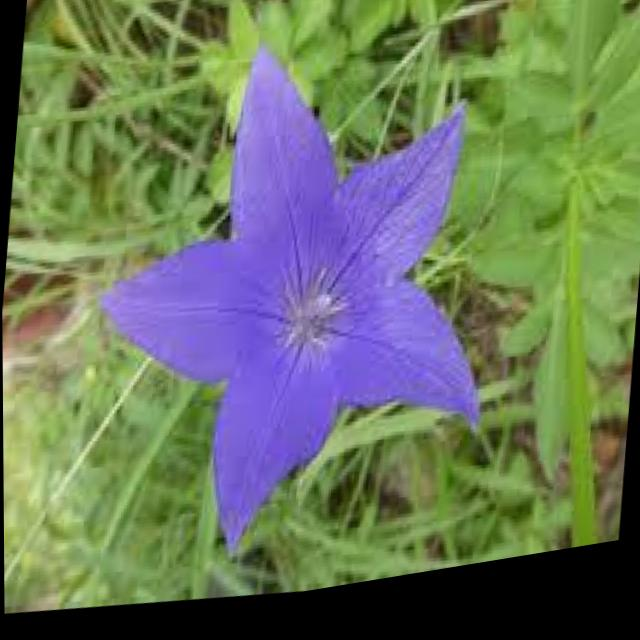Flower: (71, 10, 515, 603)
